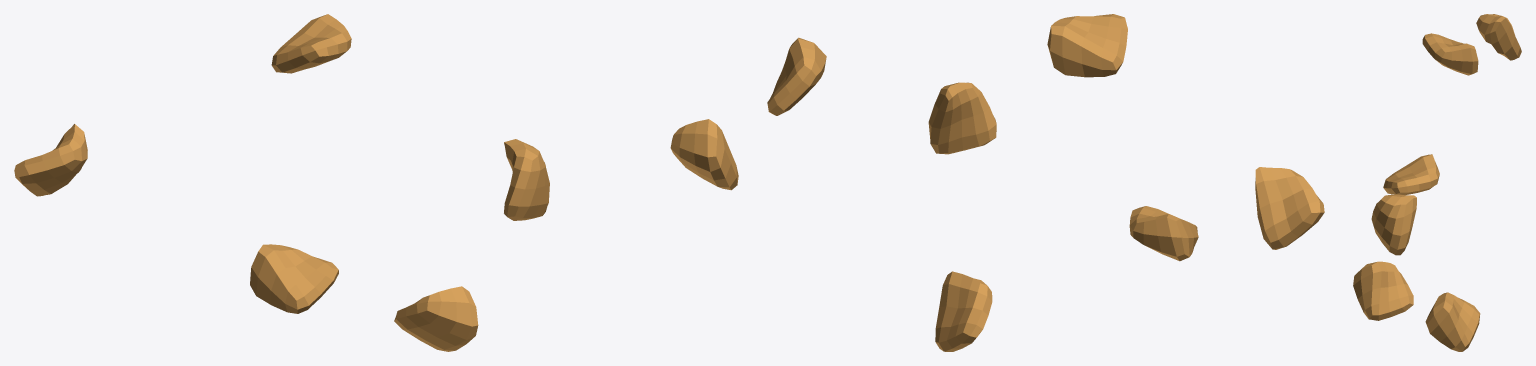
The model's file is chilliseed.fbx.
3 renders of one model, left to right at view 1: azimuth 30°, elevation 25°; view 2: azimuth 150°, elevation 25°; view 3: azimuth 270°, elevation 25°, orthographic. The views are drawn at different scales.
Parts seen in each view (by area): view 1: Cube.023, Cube.026, Cube.003, Cube.007, Cube.011, Cube.021; view 2: Cube.011, Cube.021, Cube.007, Cube.026, Cube.003, Cube.023; view 3: Cube.003, Cube.026, Cube.007, Cube.023, Cube.011, Cube.021.
Boxes of the visible parts, box(x1,y1,x2,y2) form: Cube.023: box(250, 244, 338, 313); Cube.026: box(394, 286, 478, 351); Cube.003: box(670, 119, 738, 190); Cube.007: box(504, 139, 549, 220); Cube.011: box(271, 14, 351, 73); Cube.021: box(14, 124, 87, 196); Cube.011: box(1047, 14, 1127, 77); Cube.021: box(1255, 167, 1324, 249); Cube.007: box(928, 82, 996, 154); Cube.026: box(935, 271, 992, 351); Cube.003: box(767, 37, 826, 115); Cube.023: box(1129, 206, 1198, 261); Cube.003: box(1353, 261, 1413, 320); Cube.026: box(1425, 292, 1480, 351); Cube.007: box(1371, 194, 1416, 255); Cube.023: box(1383, 154, 1439, 194); Cube.011: box(1422, 33, 1478, 75); Cube.021: box(1476, 14, 1521, 60).
Bounding box in the file's own units: 176 × 95.27 × 55.16.
